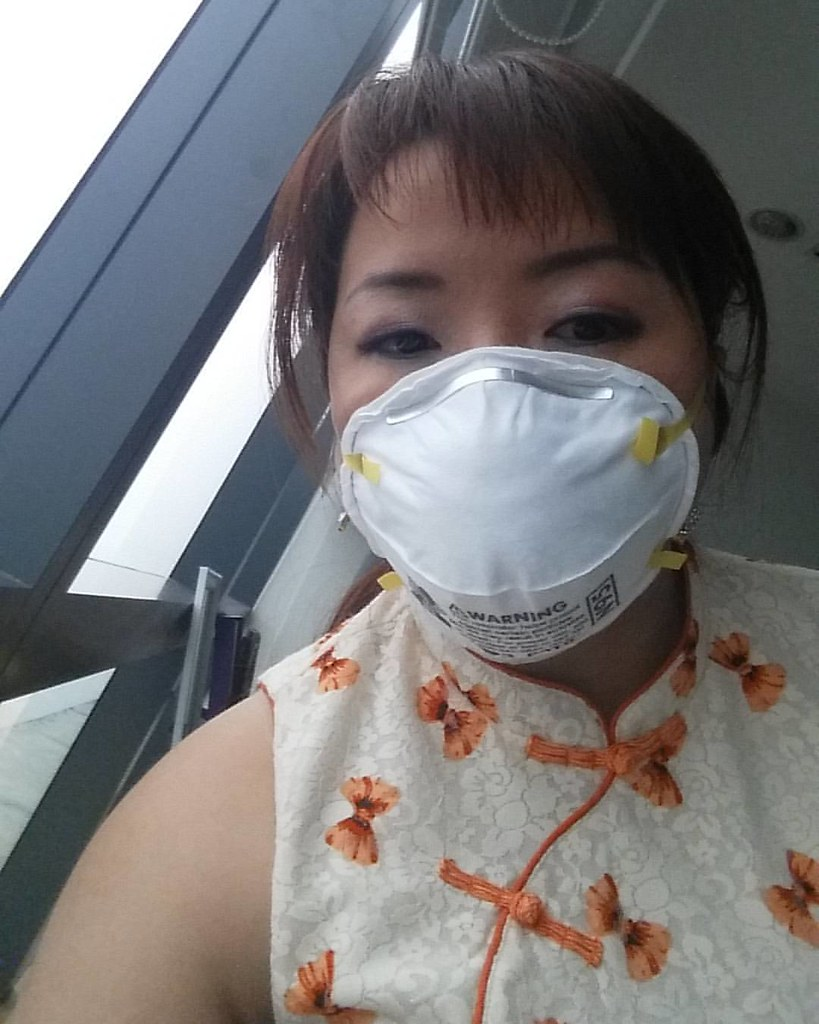n95: (319, 342, 712, 665)
